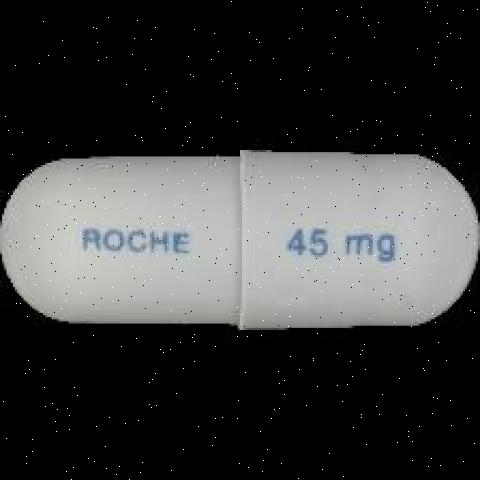hands: (5, 94, 480, 376)
